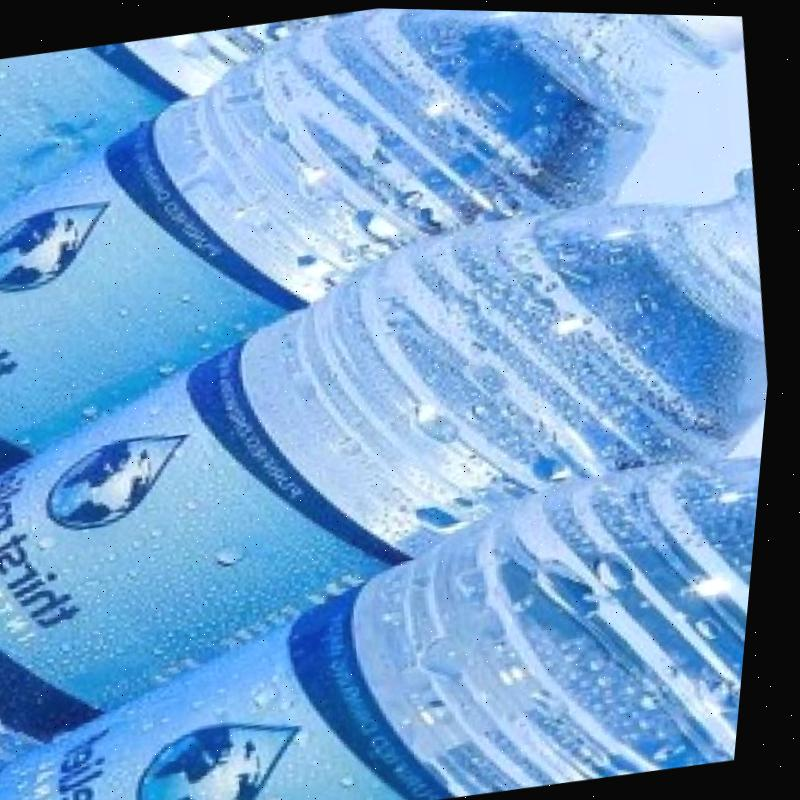botella: (0, 149, 790, 782), (0, 0, 800, 507), (0, 434, 770, 800), (0, 7, 349, 244)
